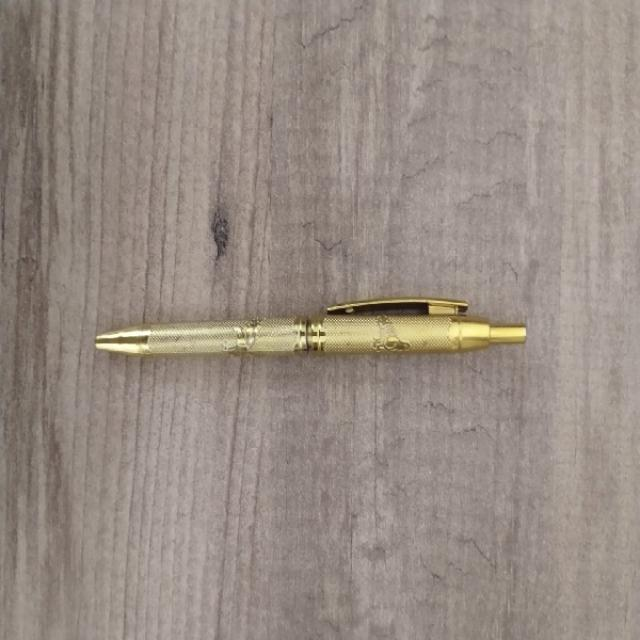signature pen: (95, 298, 525, 356)
